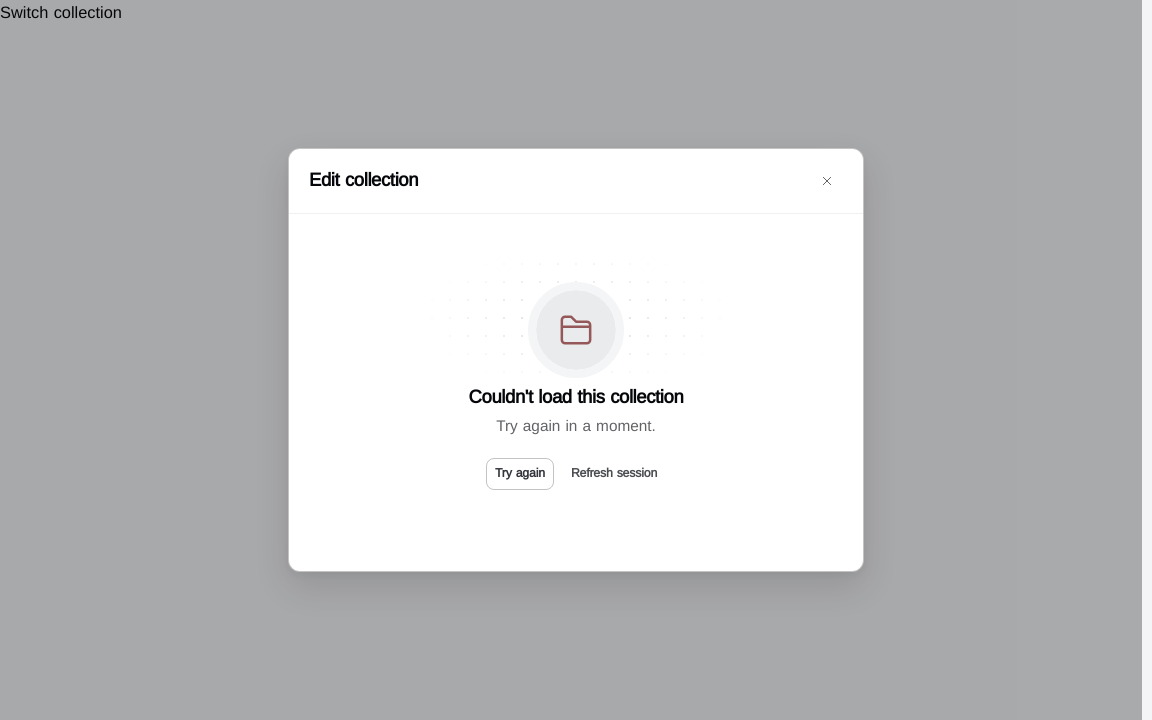
Scenario: CollectionEditor component › offers explicit error recovery and retries the load on activation
Check: the message "Couldn't load this collection Try again in a moment. Try again Refresh session" is shown, box left=469, top=290, right=683, bottom=490
Click the button "Try again".
click(520, 474)  # box left=486, top=458, right=554, bottom=490
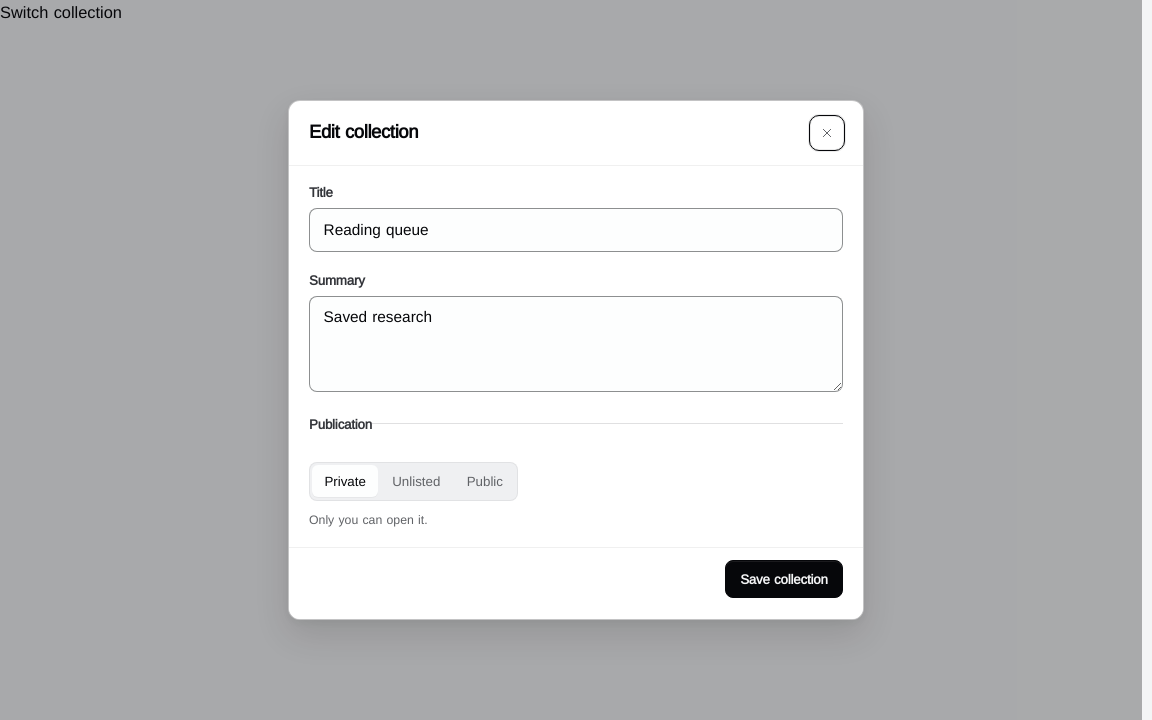
Check: the element with test id "collection-settings" is shown, box left=309, top=182, right=843, bottom=598
Check: the message "Only you can open it." is shown, box left=309, top=512, right=428, bottom=527
